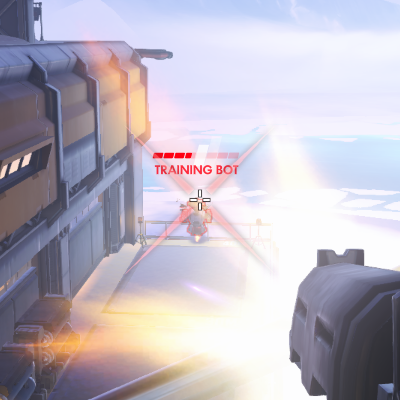hpbar: (153, 153, 239, 159)
